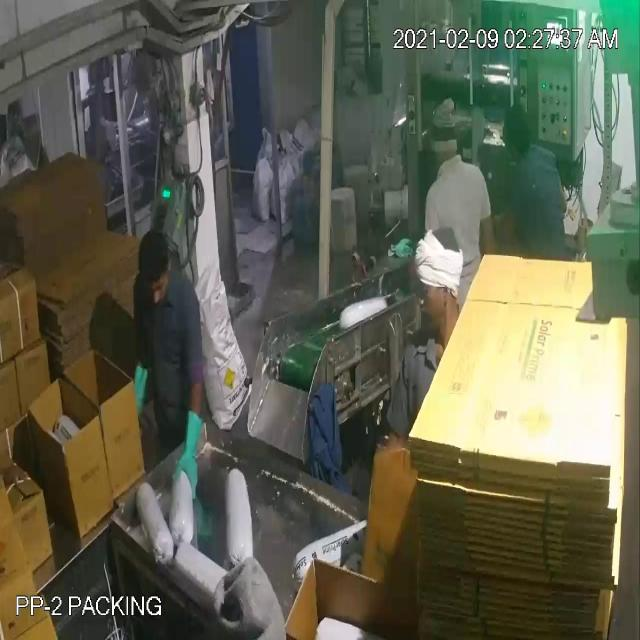gloves: (170, 393, 202, 504), (124, 362, 150, 424)
